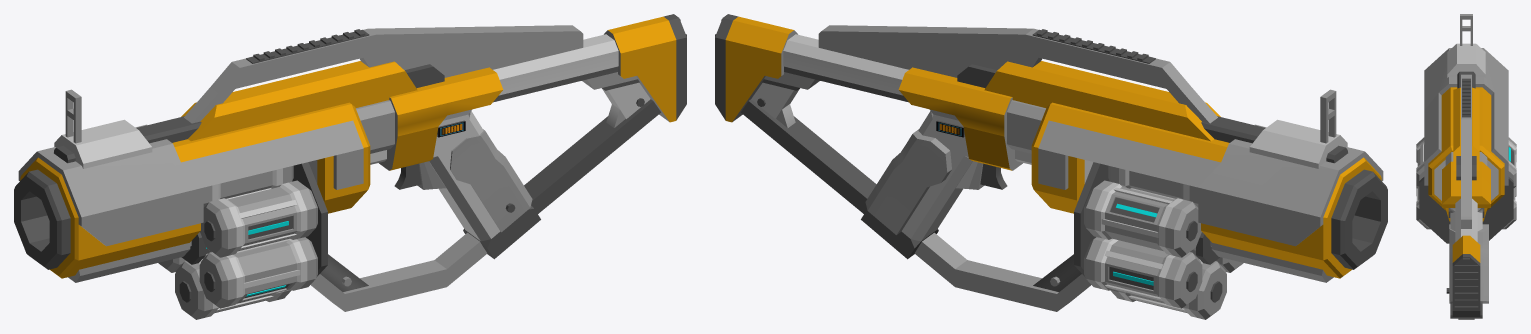
Rendered from SM_GLA01.fbx.
3 views of the same model, side by side, from view 1: azimuth 30°, elevation 25°; view 2: azimuth 150°, elevation 25°; view 3: azimuth 270°, elevation 25° (orthographic). The views are drawn at different scales.
Parts seen in each view (by area): view 1: SM_GLA01, SM_Grenade6, SM_Grenade5, SM_Grenade4, SM_GLA01_Drum, SM_Grenade1, SM_GLA01_Trigger; view 2: SM_GLA01, SM_Grenade2, SM_Grenade3, SM_Grenade4, SM_GLA01_Drum, SM_Grenade1, SM_GLA01_Trigger; view 3: SM_GLA01, SM_GLA01_Drum, SM_Grenade2, SM_Grenade6, SM_Grenade5, SM_Grenade3.
Boxes of the visible parts, x1,y1,x2,y2 form: SM_GLA01: (14, 14, 686, 311); SM_Grenade6: (200, 180, 317, 257); SM_Grenade5: (199, 237, 317, 308); SM_Grenade4: (175, 259, 291, 319); SM_GLA01_Drum: (181, 162, 327, 276); SM_Grenade1: (203, 165, 293, 207); SM_GLA01_Trigger: (394, 163, 421, 189); SM_GLA01: (715, 14, 1387, 311); SM_Grenade2: (1084, 180, 1201, 257); SM_Grenade3: (1084, 237, 1202, 308); SM_Grenade4: (1110, 259, 1226, 319); SM_GLA01_Drum: (1074, 162, 1219, 276); SM_Grenade1: (1108, 165, 1198, 207); SM_GLA01_Trigger: (980, 163, 1007, 189); SM_GLA01: (1424, 14, 1508, 319); SM_GLA01_Drum: (1419, 177, 1513, 243); SM_Grenade2: (1508, 137, 1516, 187); SM_Grenade6: (1416, 137, 1424, 187); SM_Grenade5: (1416, 186, 1430, 229); SM_Grenade3: (1502, 186, 1516, 229).
Size of the model in its own units: 68.81 by 28.48 by 13.91.
Materials: 6 (1 with a texture image).
